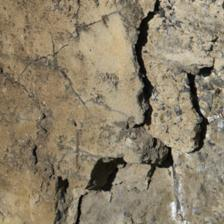Crack: (90, 9, 170, 128), (78, 0, 144, 93), (62, 58, 162, 97), (34, 11, 70, 76), (29, 66, 91, 101)
